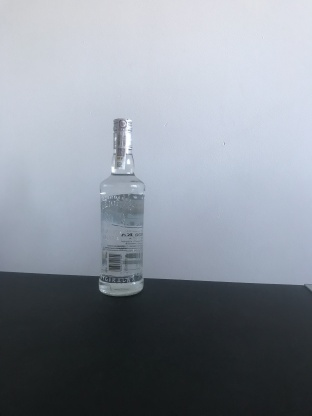nakretka: (110, 114, 134, 152)
